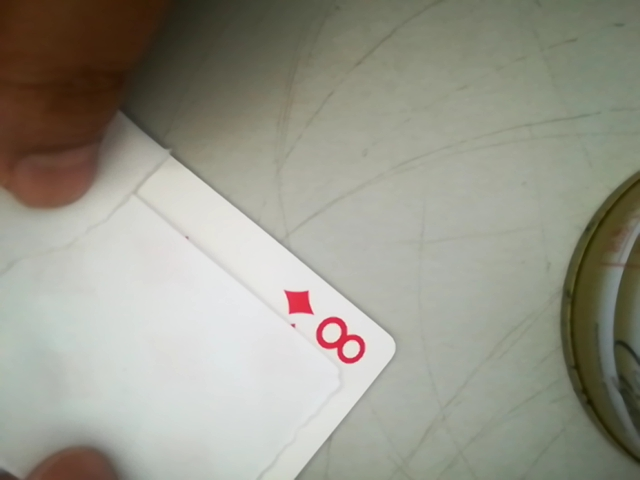fk 8: (284, 285, 378, 374)
